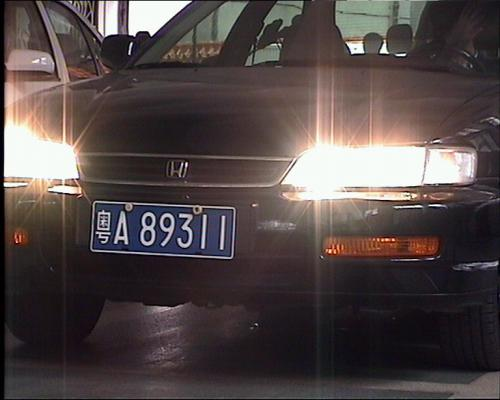Carplate: (87, 194, 238, 264)
